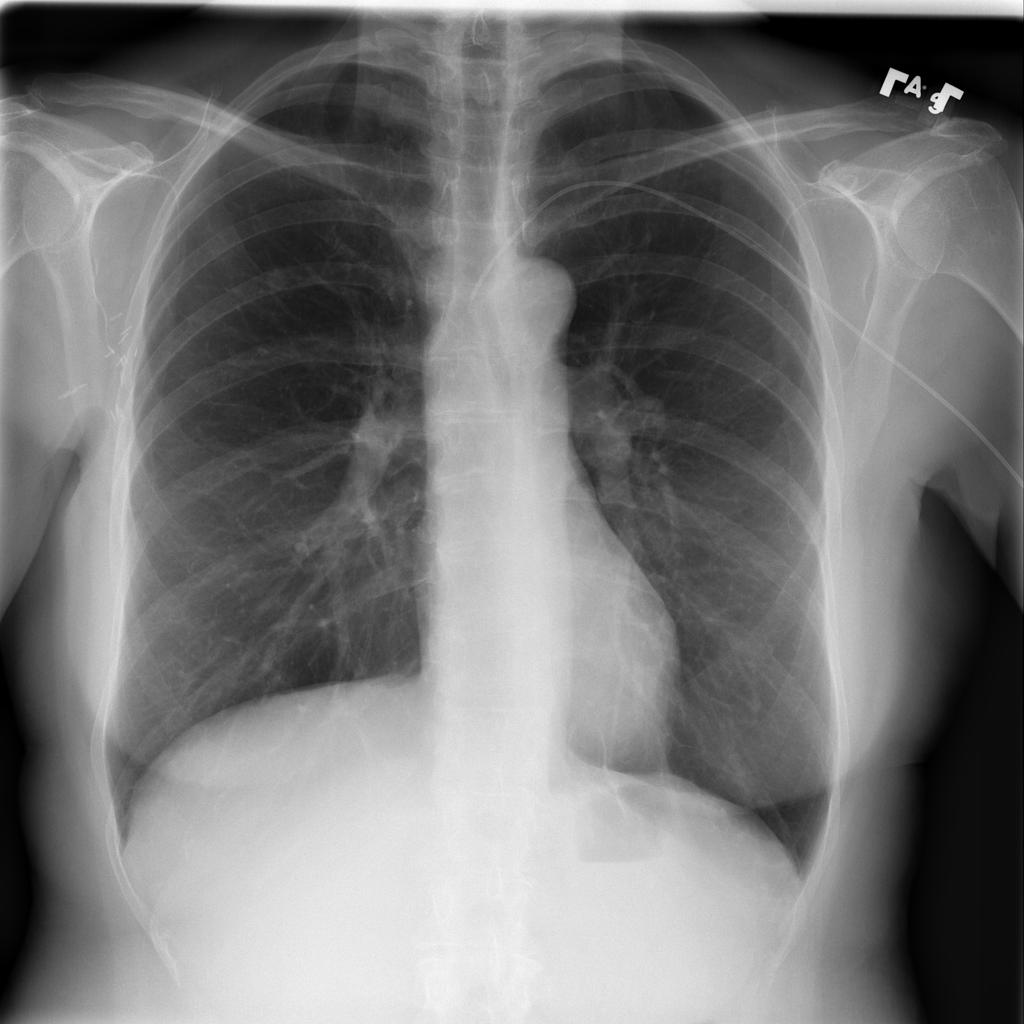nodule: (252, 254, 303, 305)
